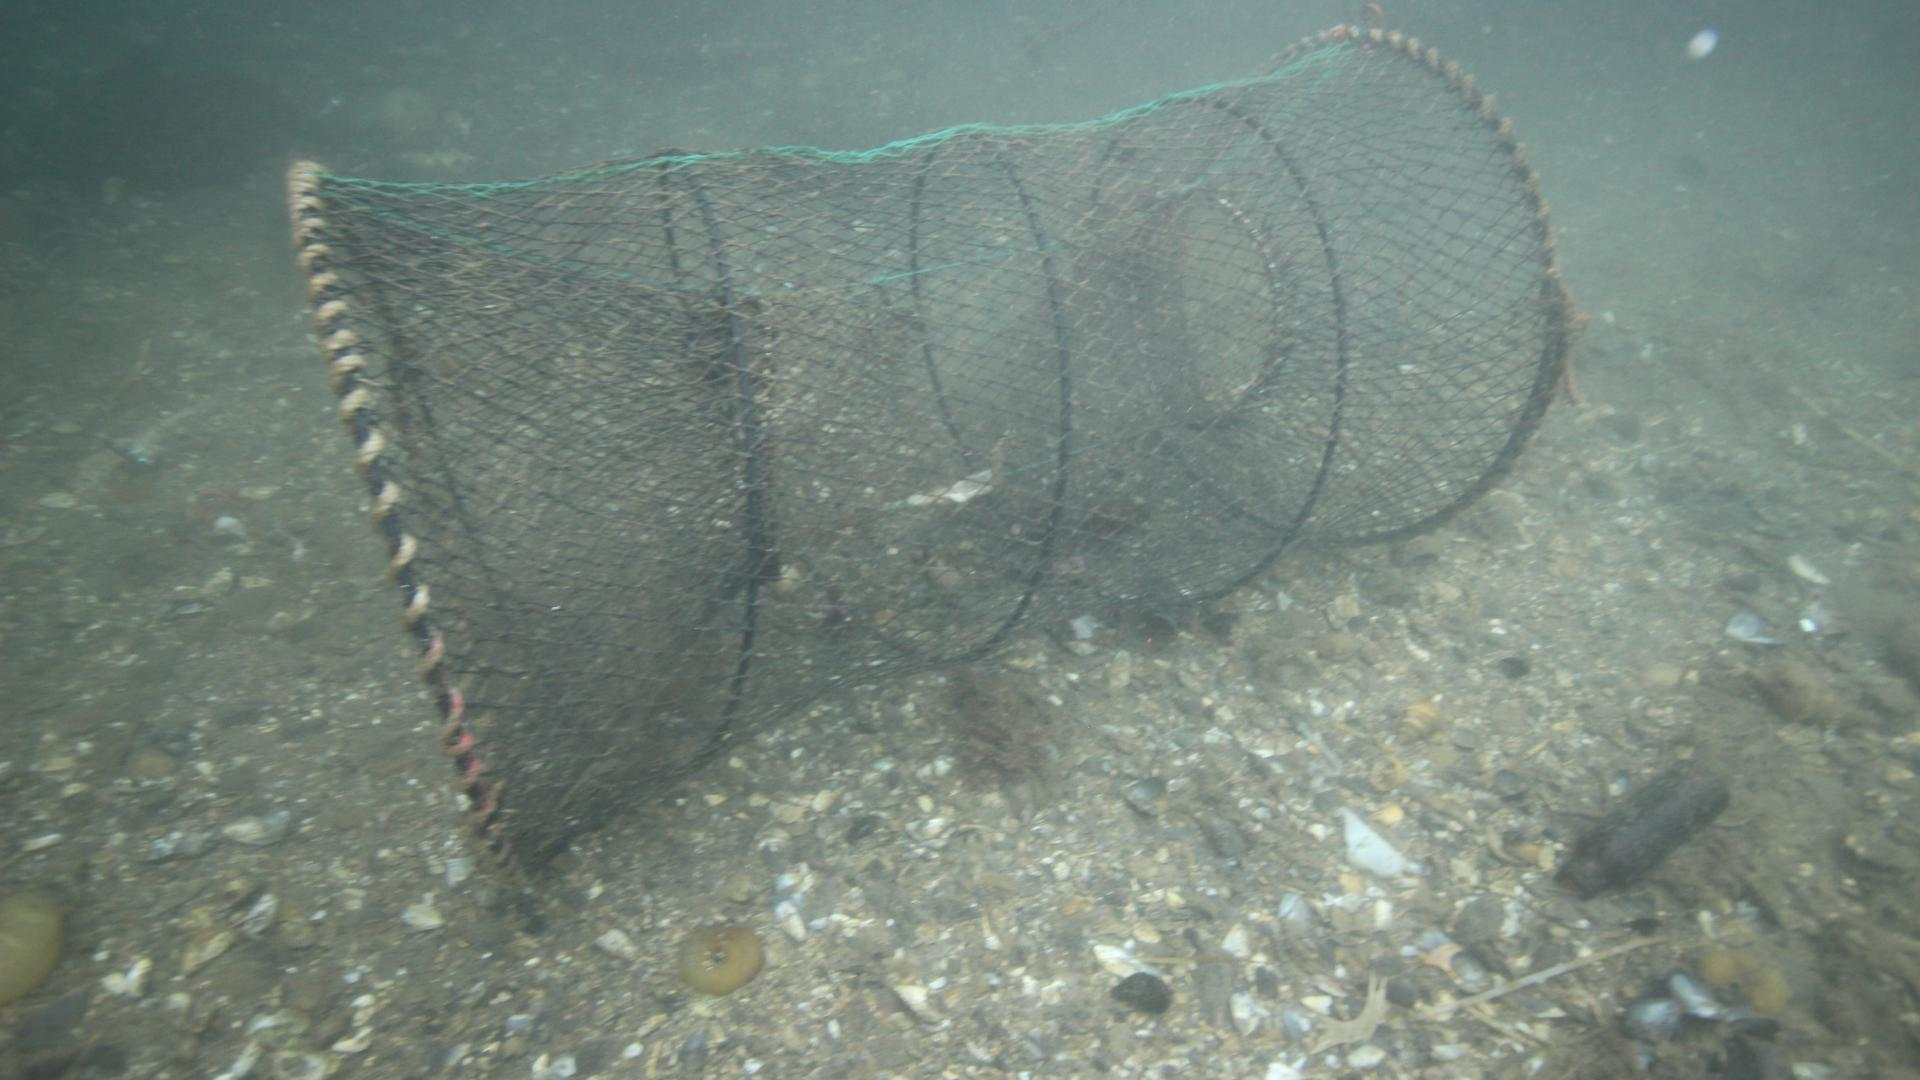spring fish trap: (284, 22, 1567, 884)
